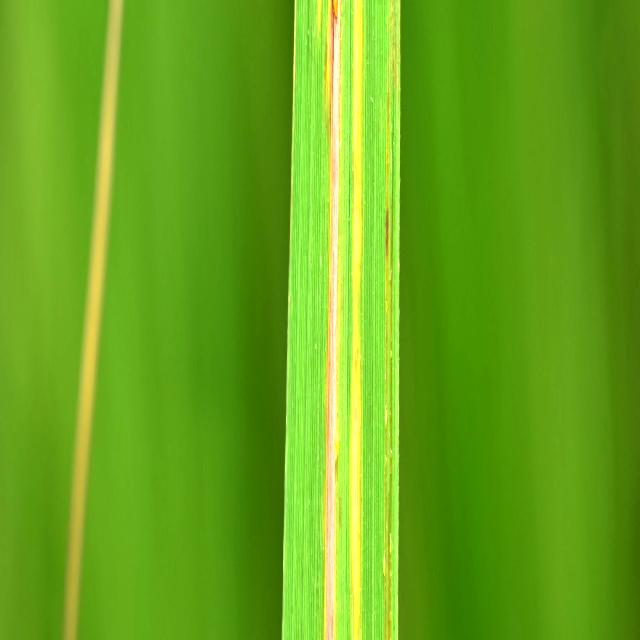BLB: (323, 0, 341, 637), (351, 0, 363, 637), (318, 0, 321, 21)
